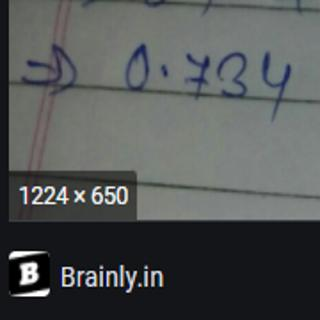.: (160, 63, 174, 81)
0: (119, 44, 151, 89), (116, 184, 128, 205)
1: (19, 181, 31, 205)
2: (29, 182, 45, 208), (42, 183, 56, 207)
3: (216, 50, 248, 103)
4: (261, 51, 291, 115), (55, 185, 68, 207)
5: (103, 186, 116, 210)
6: (91, 183, 103, 207)
7: (183, 50, 213, 99)
